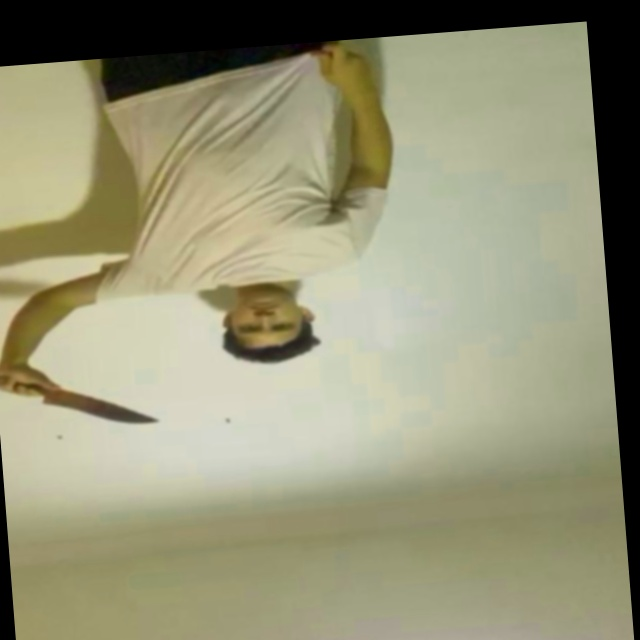Sharp-Object: (48, 389, 154, 431)
